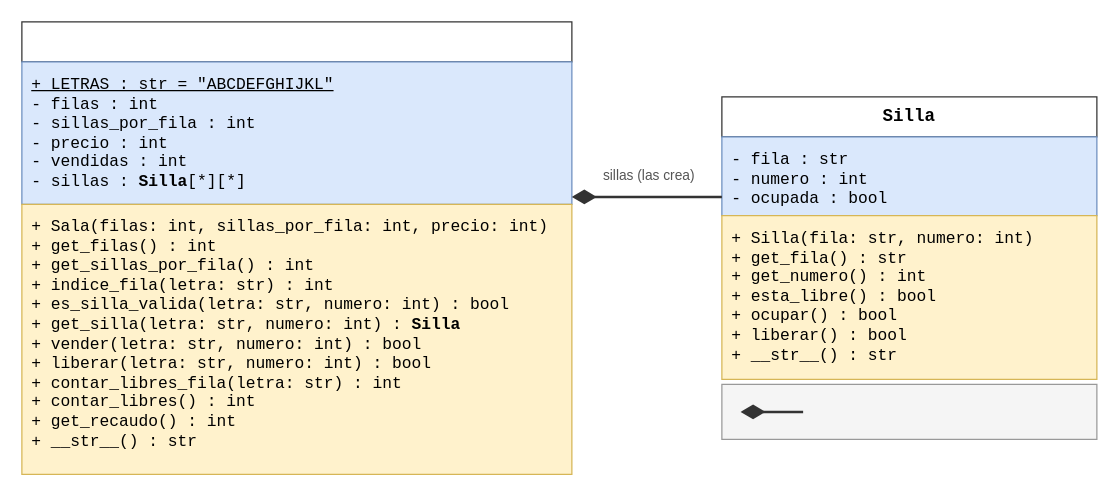
Image size: 1119x496. Some labels were removed from this diagram. The box of each missing label's shape, as (x1, y1, x2, y2) in pixels:
composición: la clase crea el objeto: (721, 383, 1097, 439)
Sala: (21, 21, 572, 62)
